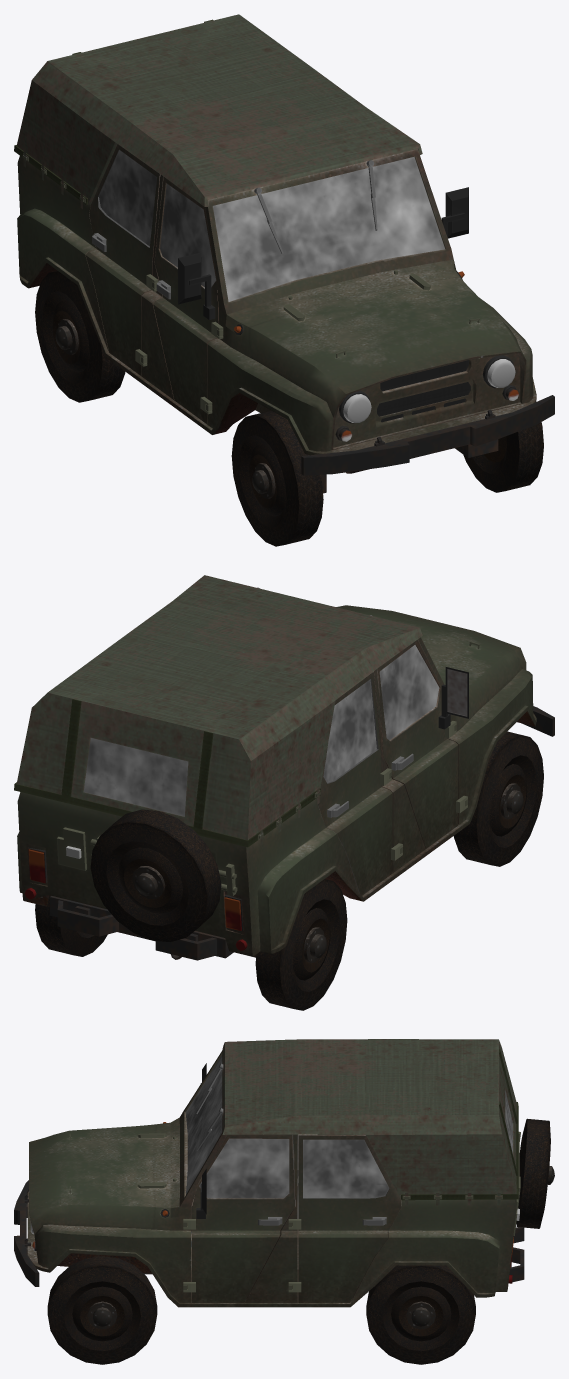
File: Bg_MilitaryCar_01.fbx
3 renders of one model, top to bottom at view 1: azimuth 30°, elevation 25°; view 2: azimuth 150°, elevation 25°; view 3: azimuth 270°, elevation 25°, orthographic. The views are drawn at different scales.
Visible parts, largest first — view 1: Bg_MillitaryCar_01, Bg_MillitaryCar_door_front_right_01, Bg_MillitaryCar_door_back_right_01, Bg_MillitaryCar_door_front_left_01; view 2: Bg_MillitaryCar_01, Bg_MillitaryCar_door_front_right_01, Bg_MillitaryCar_door_back_right_01; view 3: Bg_MillitaryCar_01, Bg_MillitaryCar_door_back_left_01, Bg_MillitaryCar_door_front_left_01.
Boxes of the visible parts, box(x1,y1,x2,y2) form: Bg_MillitaryCar_01: box(14, 14, 554, 546); Bg_MillitaryCar_door_front_right_01: box(153, 177, 223, 423); Bg_MillitaryCar_door_back_right_01: box(85, 144, 160, 375); Bg_MillitaryCar_door_front_left_01: box(441, 187, 468, 270); Bg_MillitaryCar_01: box(14, 575, 554, 1010); Bg_MillitaryCar_door_front_right_01: box(377, 640, 468, 848); Bg_MillitaryCar_door_back_right_01: box(317, 671, 402, 895); Bg_MillitaryCar_01: box(14, 1039, 554, 1364); Bg_MillitaryCar_door_back_left_01: box(288, 1134, 400, 1302); Bg_MillitaryCar_door_front_left_01: box(183, 1134, 294, 1302).
Bounding box in the file's own units: 207 × 201 × 411.
